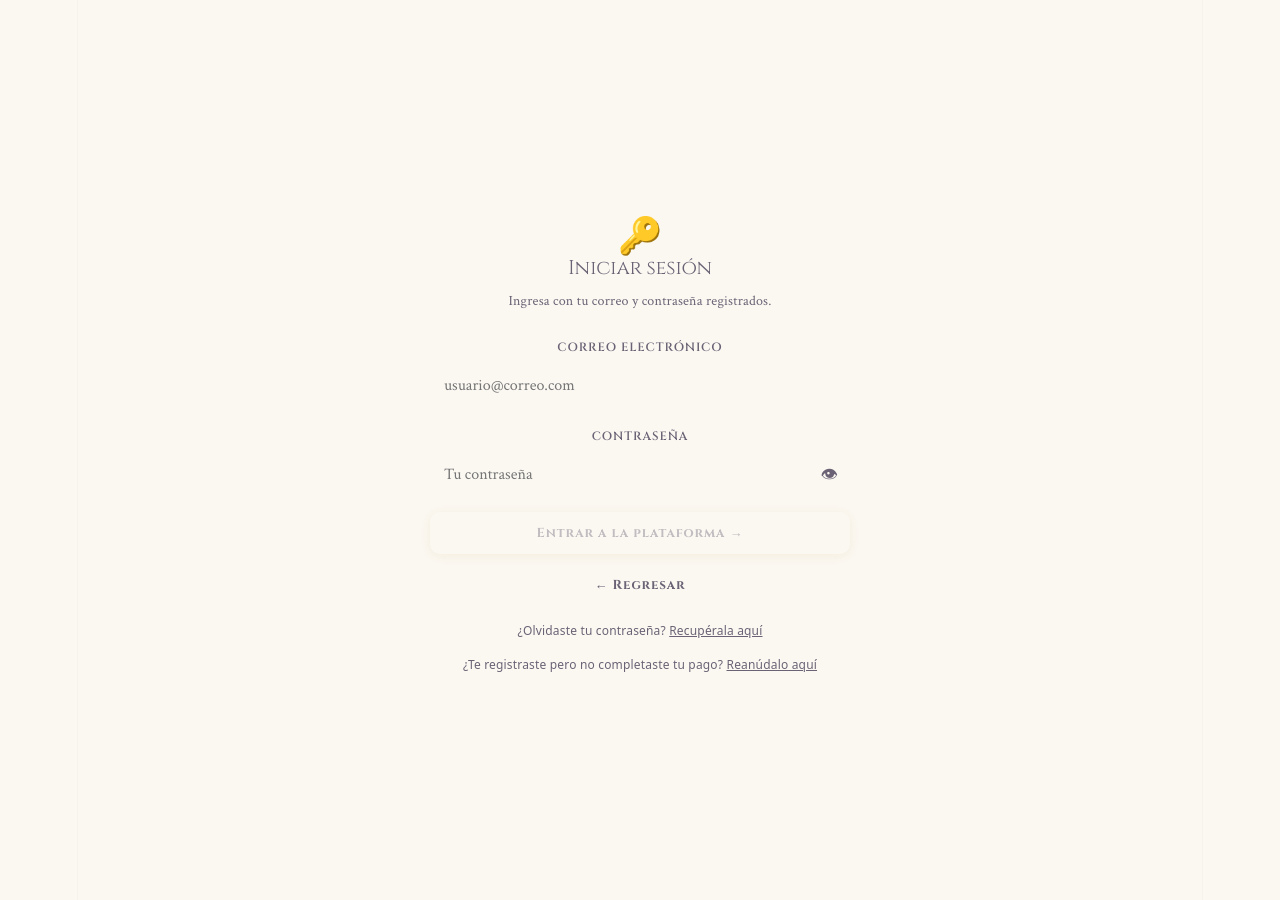
Test case: LoginModal › credenciales inválidas muestran mensaje específico
Type "juan@correo.com" into the field with placeholder "usuario@correo.com" at (640, 385), box [430,364,850,407]
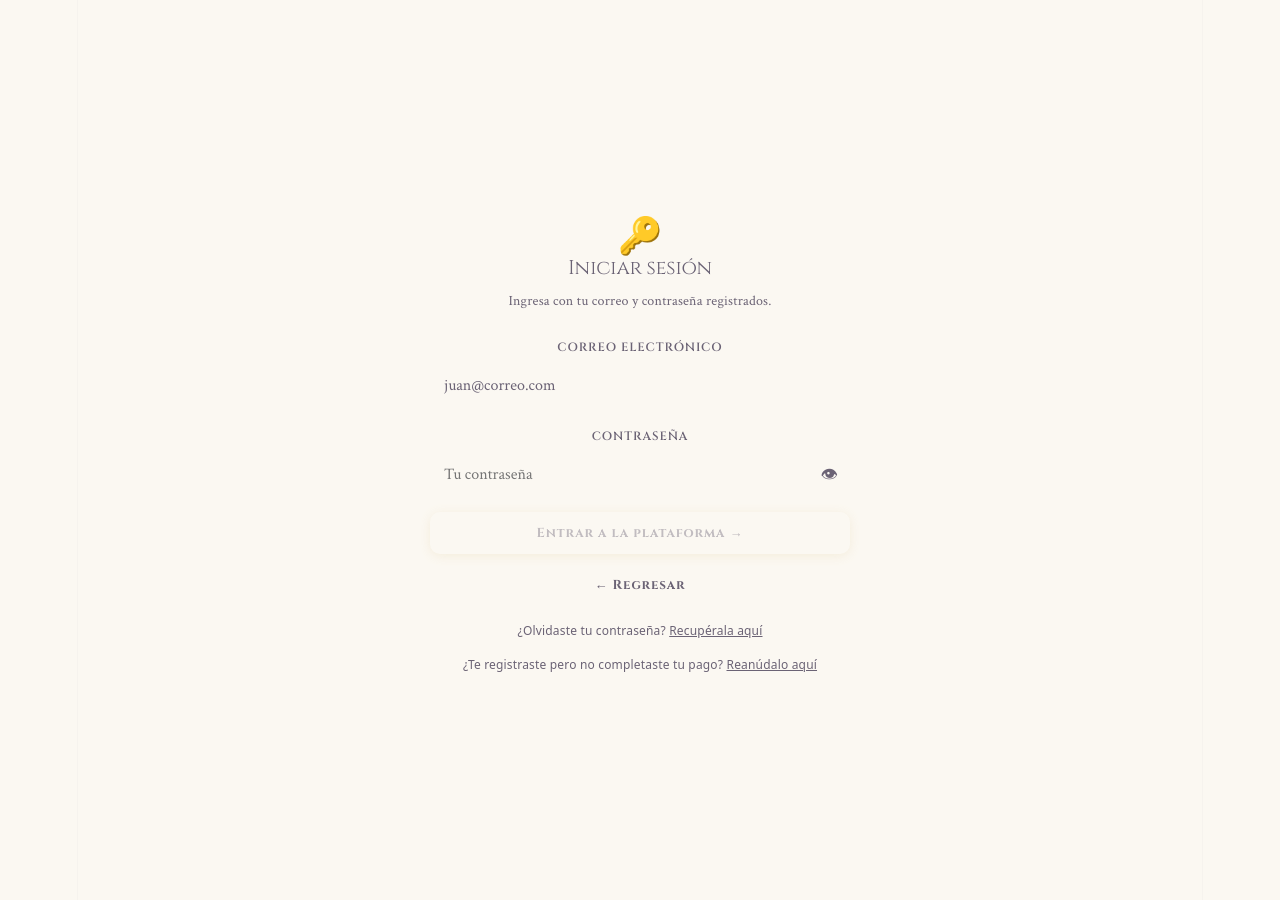
Type "malamala" into the password field with placeholder "Tu contraseña" at (640, 474), box [430,453,850,496]
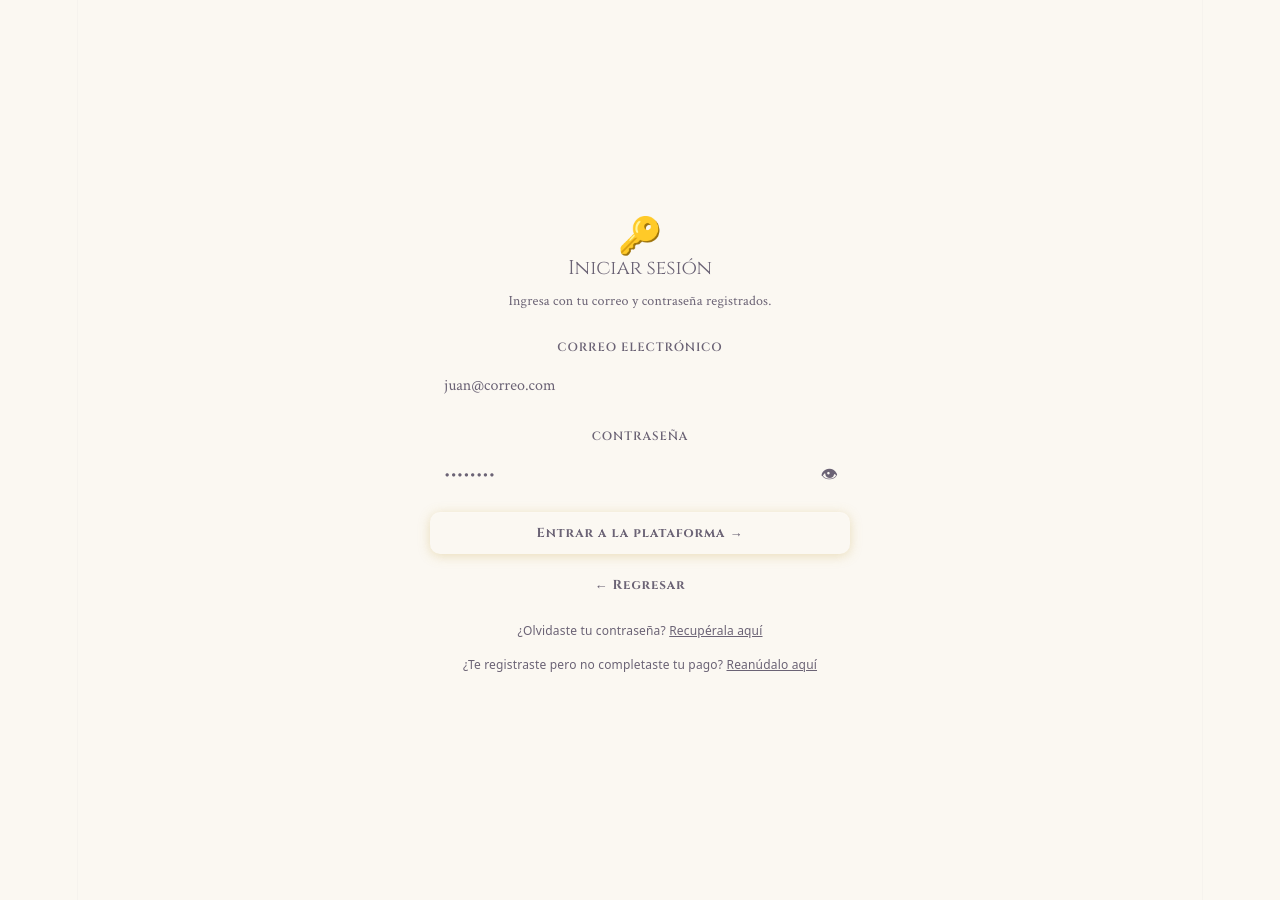
Click the button "Entrar a la plataforma →" at (640, 533), box [430,512,850,554]
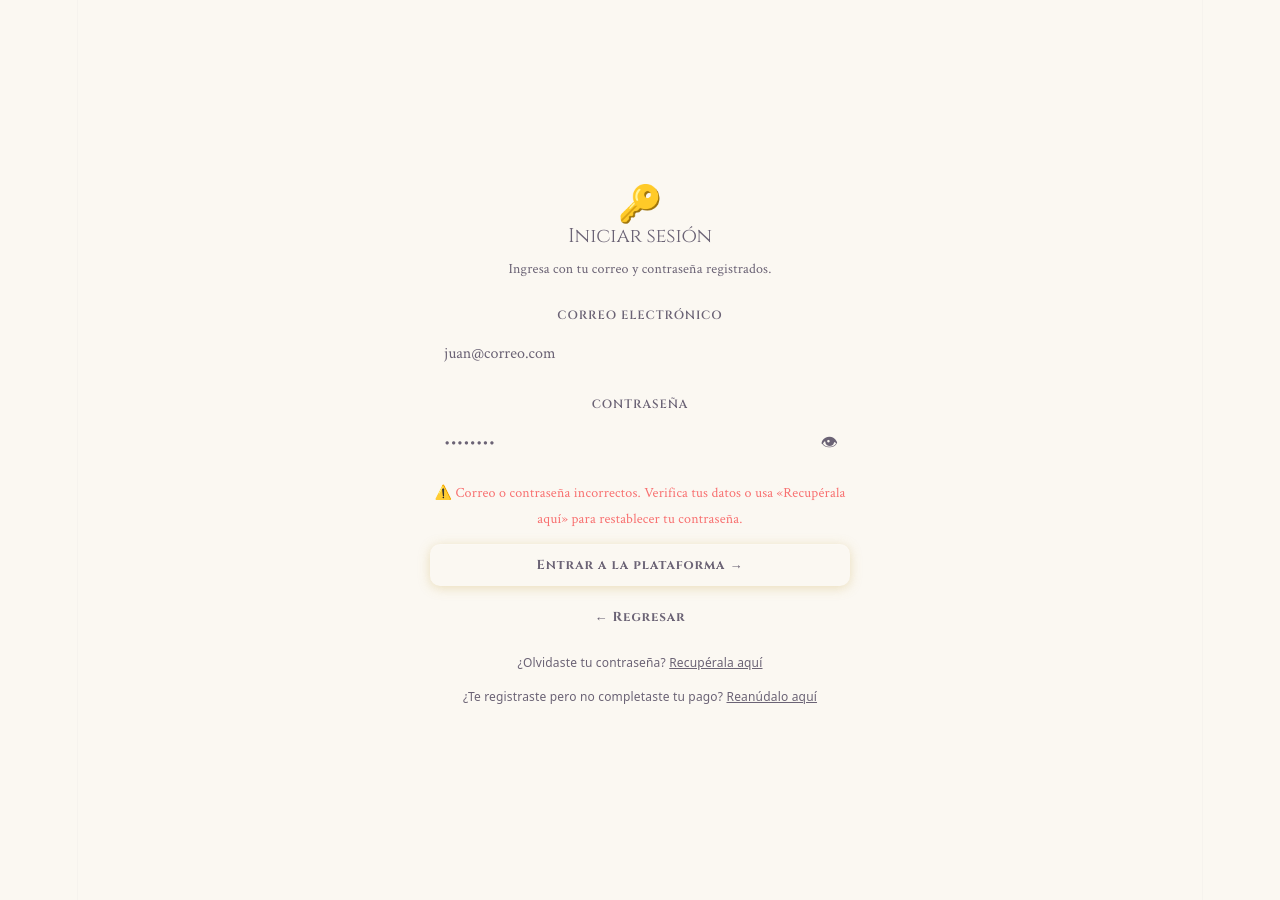
Check: the text "Correo o contraseña incorrectos" is shown, box [456,484,846,528]
